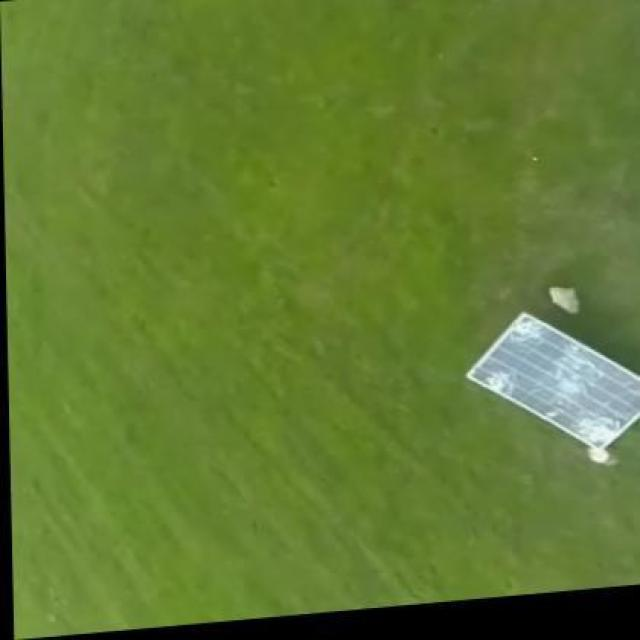cracked: (463, 311, 640, 454)
